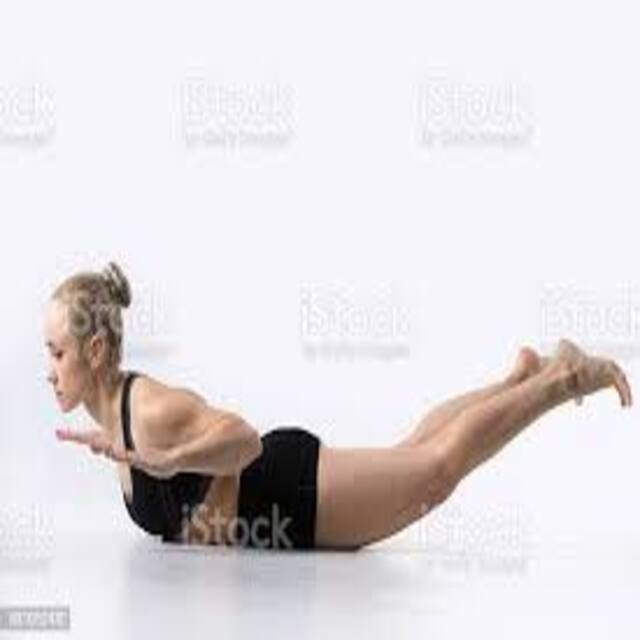Locust_Pose: (41, 262, 633, 553)
